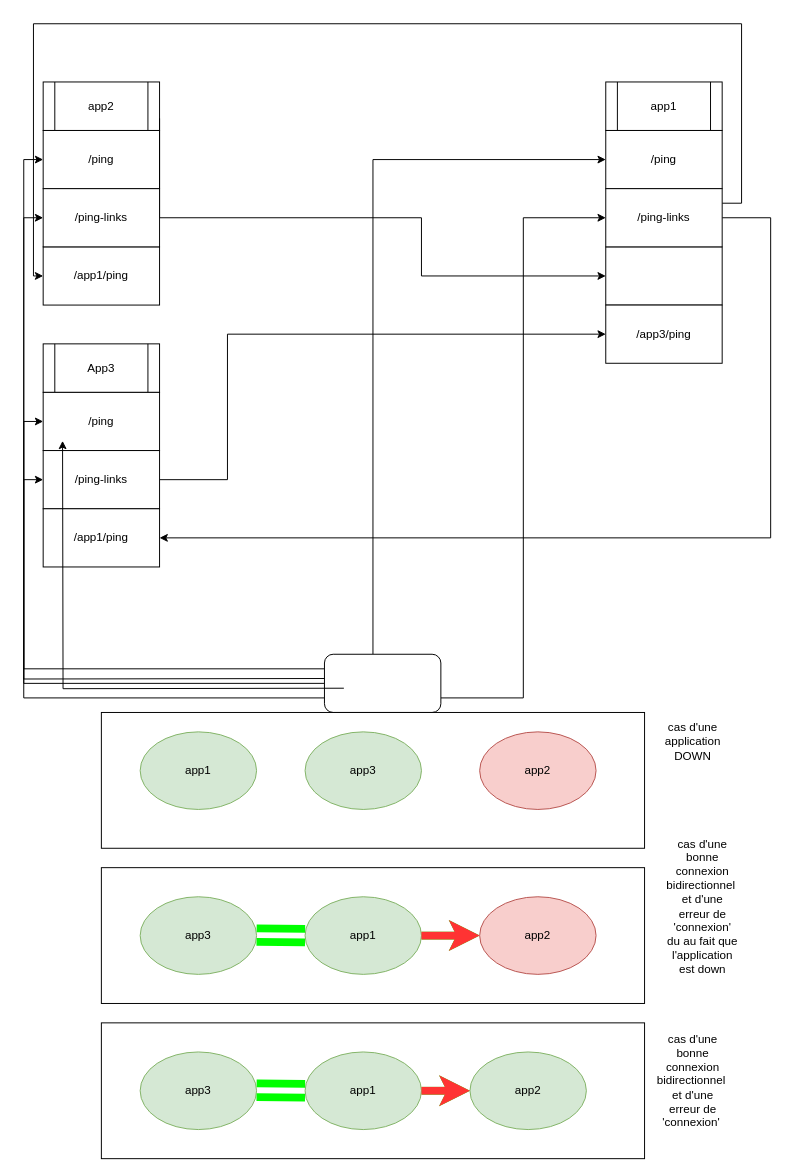
The diagram is 795 pixels wide and 1176 high, and some of its shapes have lost their labels. Each missing label, with the centre of its shape:
"/app2/ping" goes at pixel 663 275.
"Monitoring" goes at pixel 382 682.
